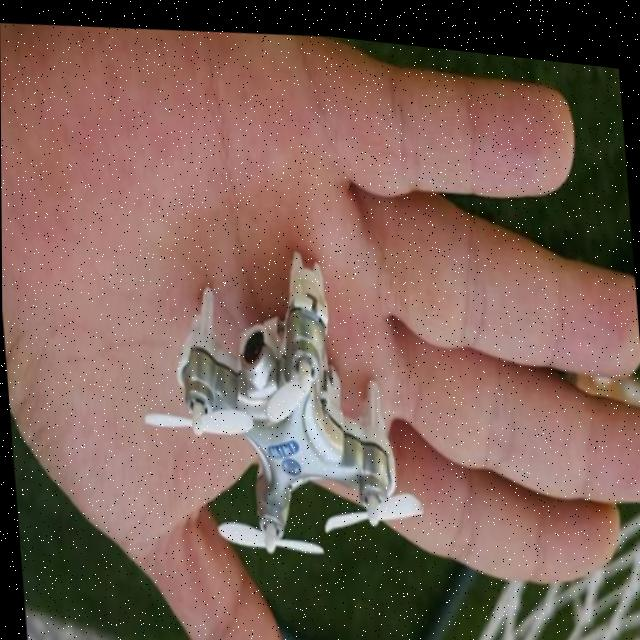drones: (140, 202, 435, 589)
